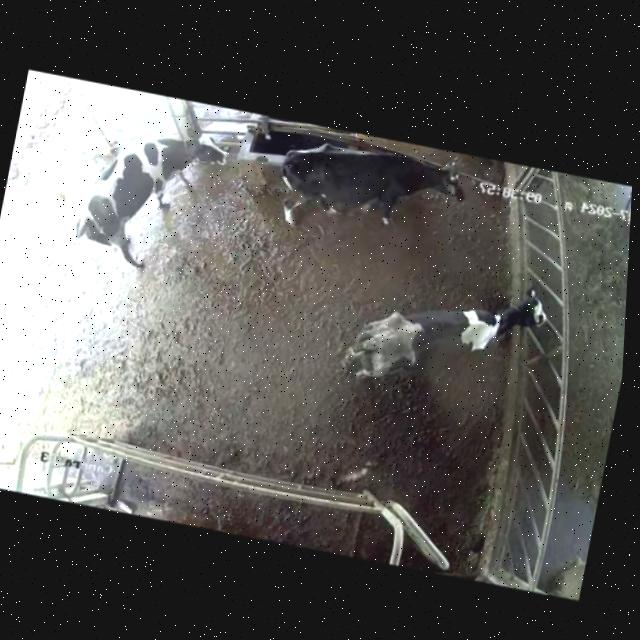stand: (322, 253, 551, 425), (59, 98, 233, 296), (267, 122, 471, 266)
